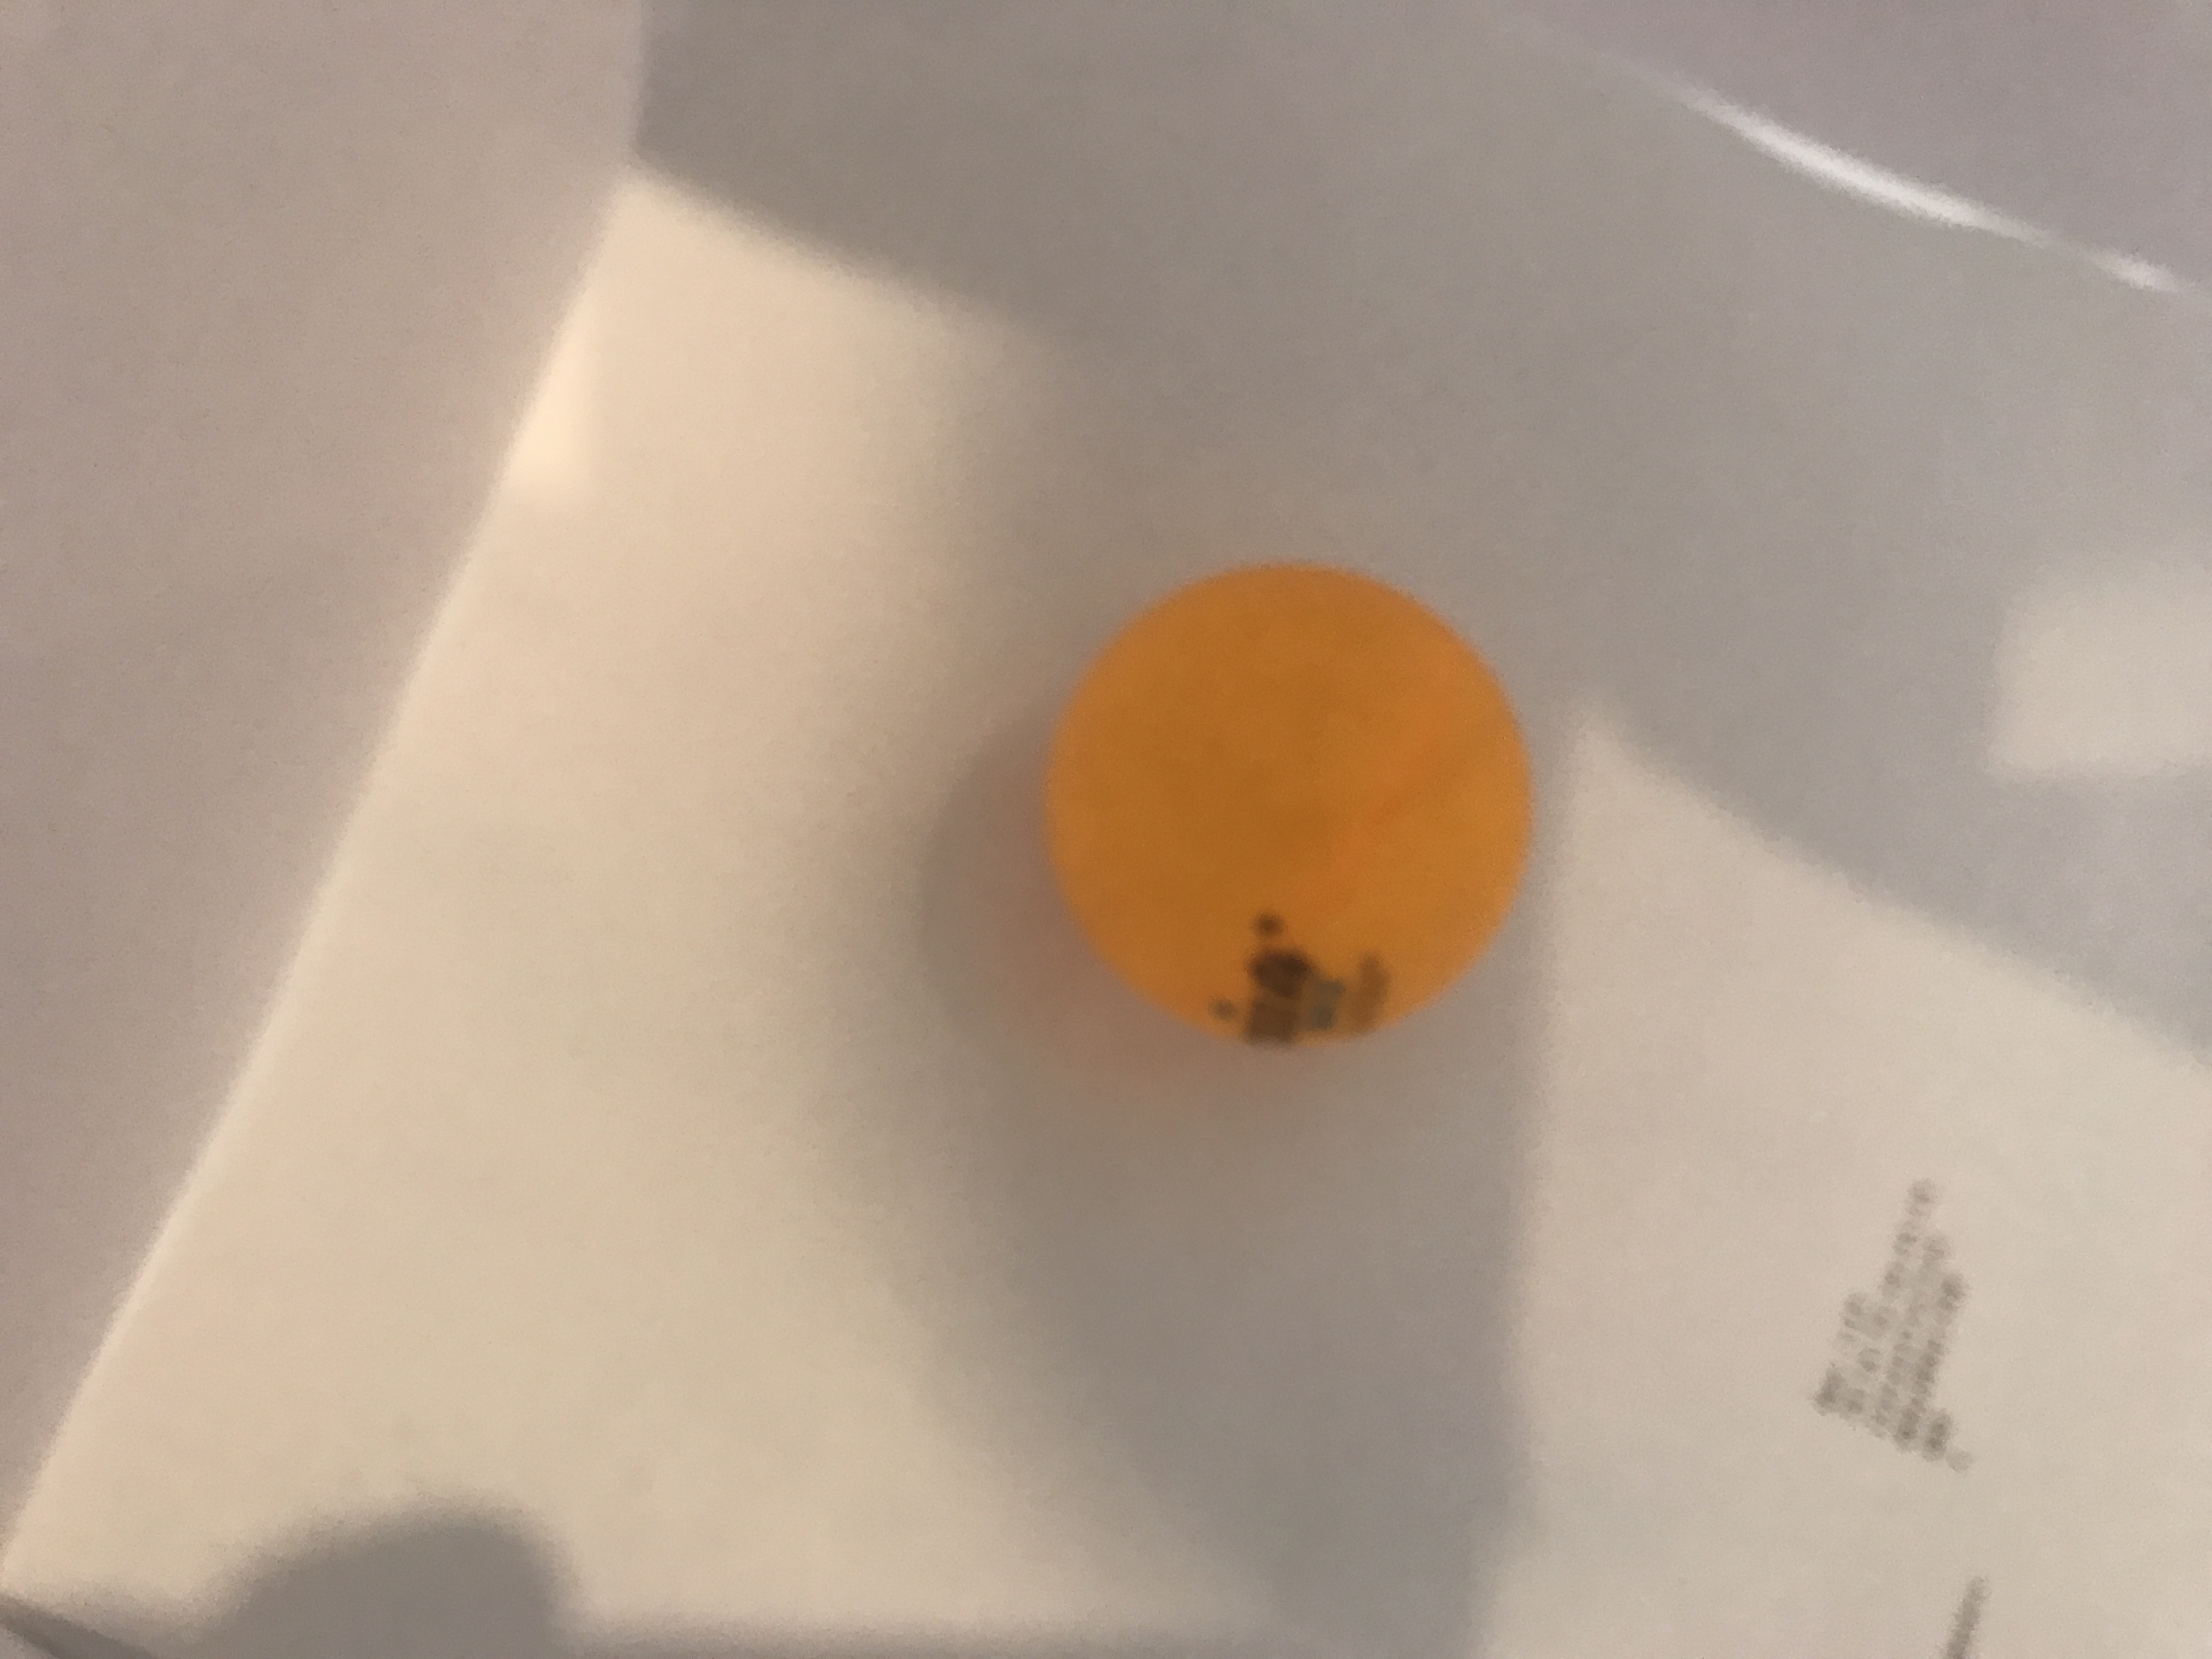pp: (1040, 559, 1541, 1053)
